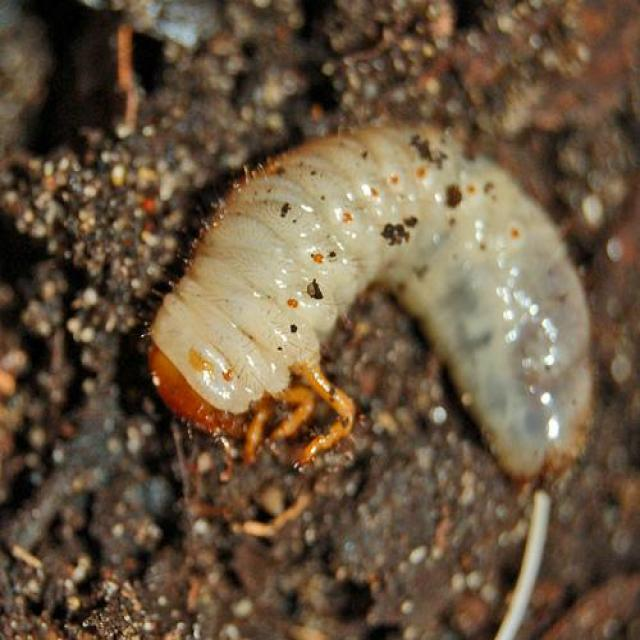Grub-Adult-: (146, 120, 620, 497)
